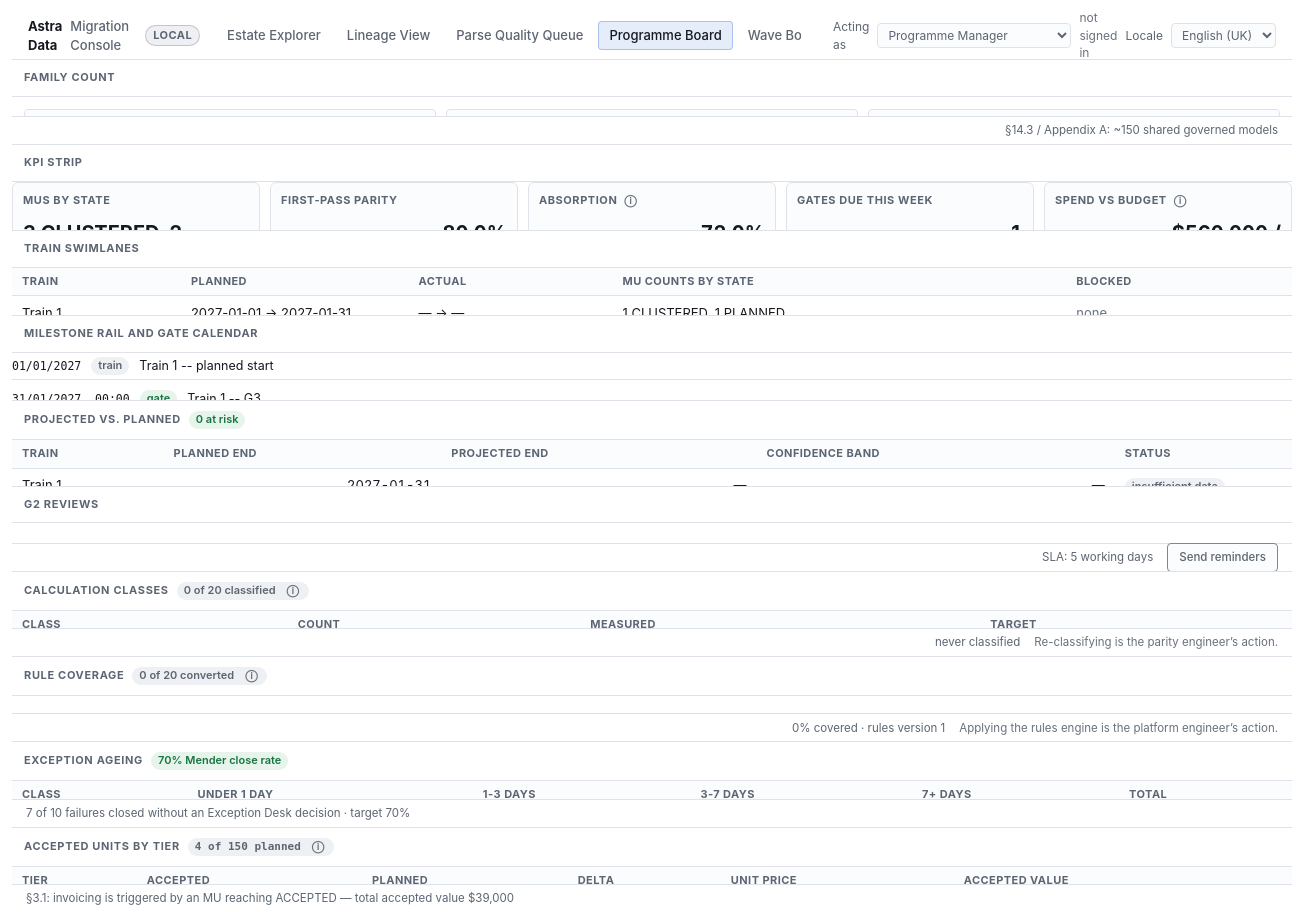
Test: the shell › switches between them
Click the button "Lineage View".
click(389, 36)  # box [336,21,441,50]
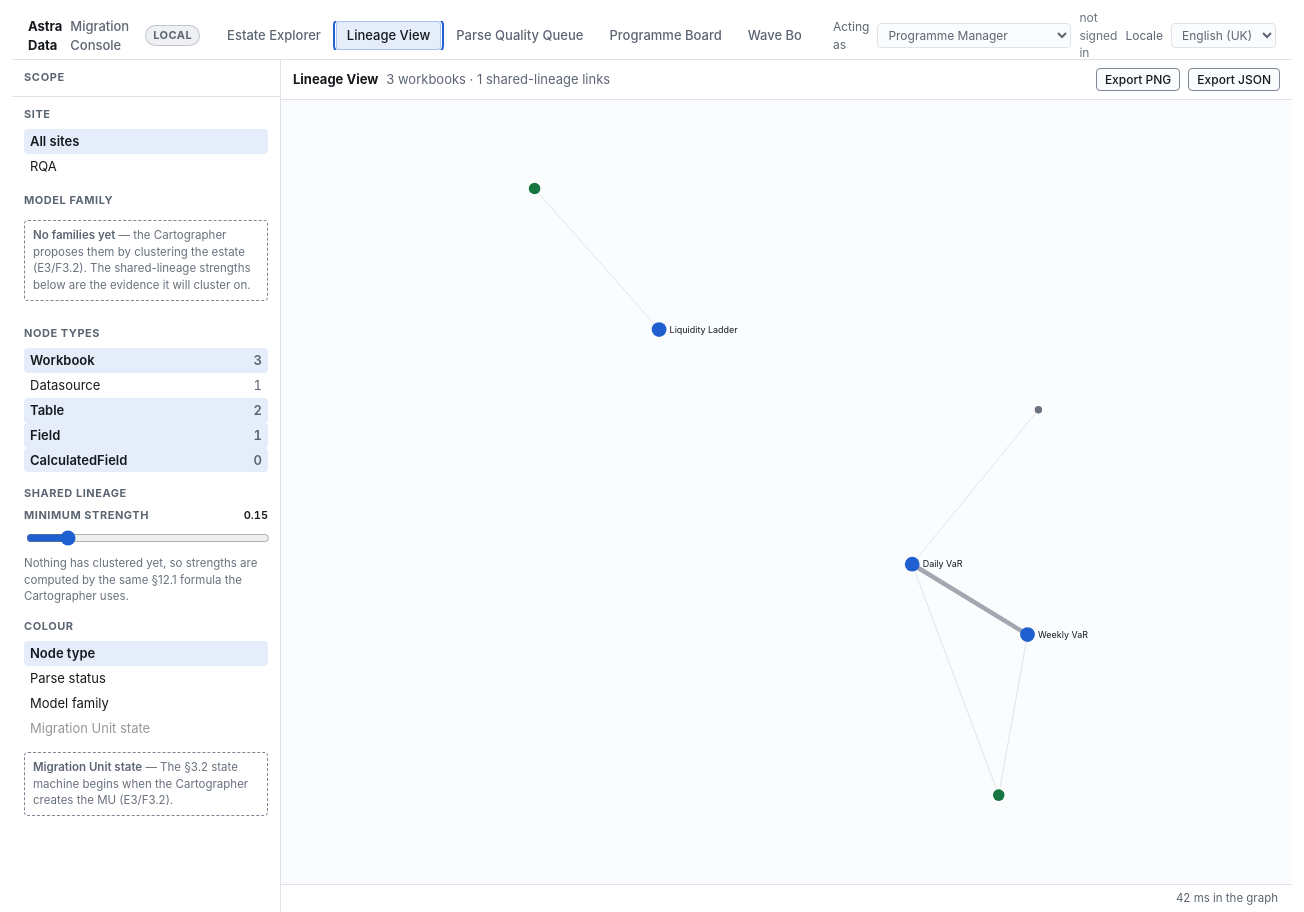
Result: the element named "Lineage graph" is shown
